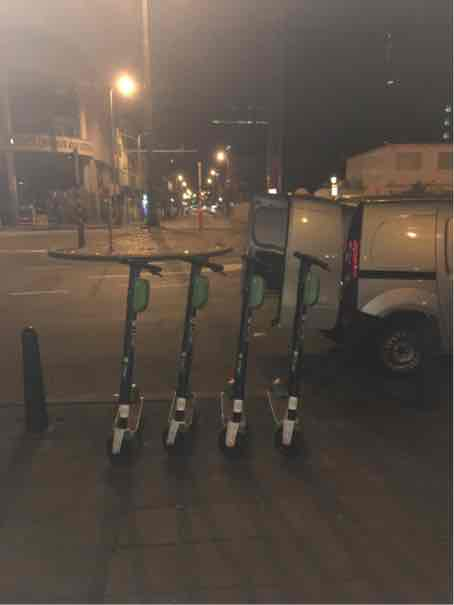too close: (161, 367, 215, 412), (210, 372, 267, 410), (108, 376, 165, 413)
